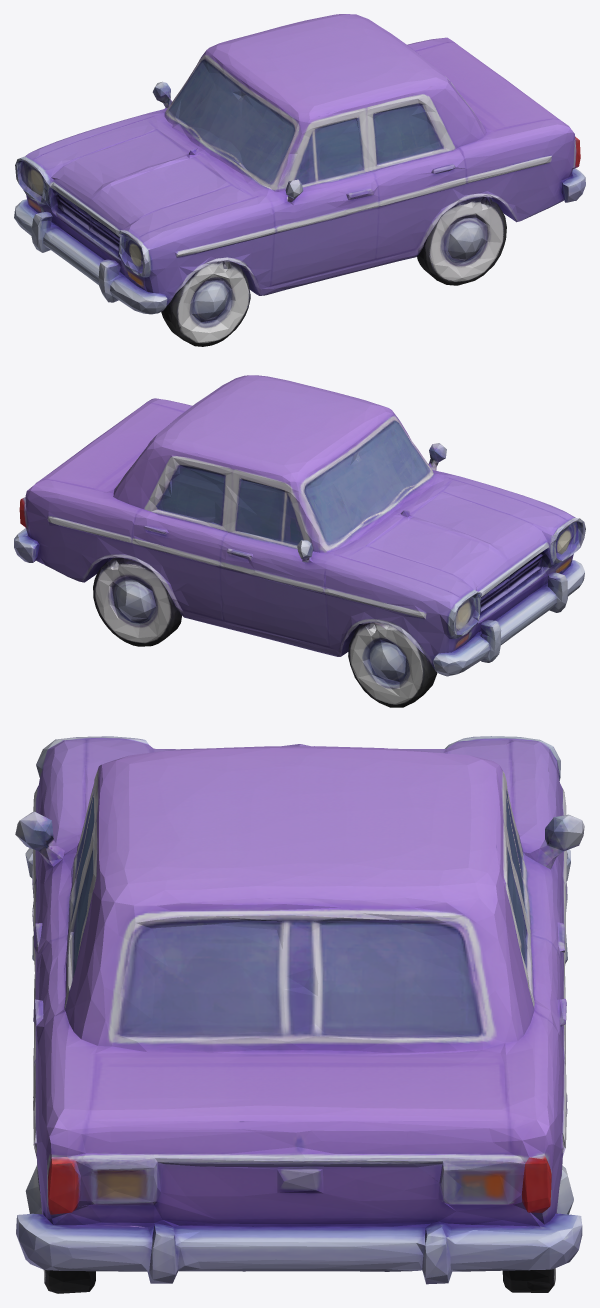
Rendered from grandma_sedan.glb.
The picture shows the model from 3 angles, top to bottom: view 1: azimuth 30°, elevation 25°; view 2: azimuth 150°, elevation 25°; view 3: azimuth 270°, elevation 25°; orthographic projection. The views are drawn at different scales.
Visible parts, largest first — view 1: geometry_0; view 2: geometry_0; view 3: geometry_0.
Boxes of the visible parts, x1,y1,x2,y2 form: geometry_0: (14,14,585,346); geometry_0: (14,375,585,707); geometry_0: (15,736,584,1293).
Size of the model in its own units: 0.9995 by 0.4172 by 0.5364.
1 material, 1 textured.
